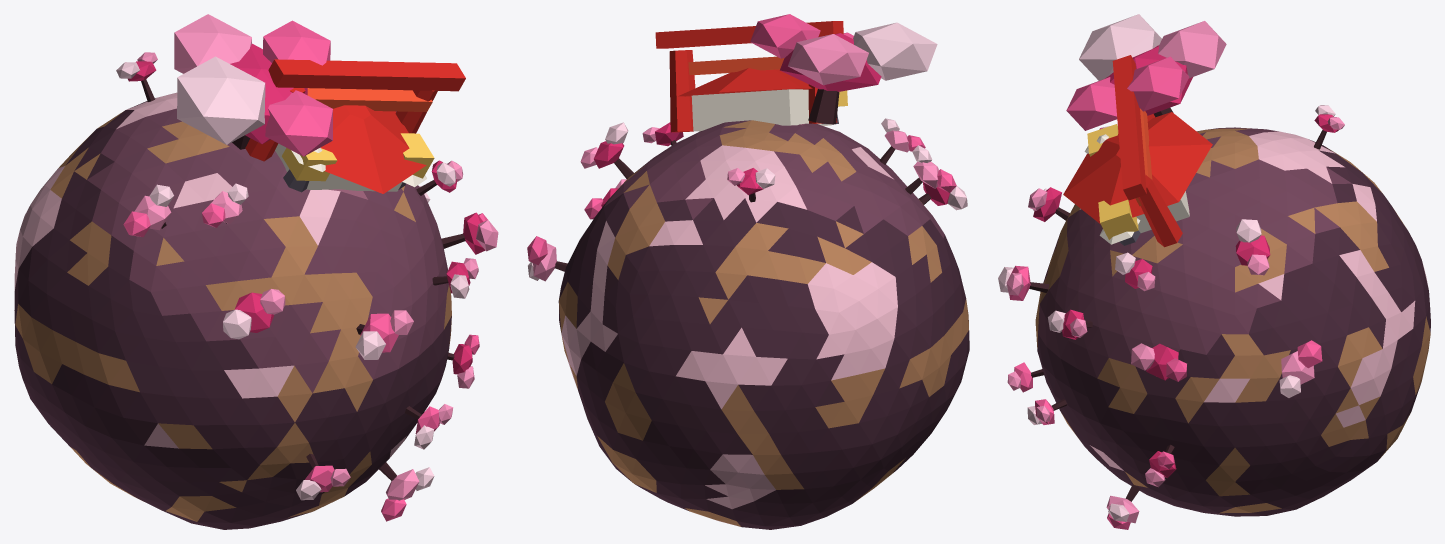
The model's file is Sakura_10.fbx.
3 views of the same model, side by side, from view 1: azimuth 30°, elevation 25°; view 2: azimuth 150°, elevation 25°; view 3: azimuth 270°, elevation 25° (orthographic). The views are drawn at different scales.
Parts seen in each view (by area): view 1: Sakura_10; view 2: Sakura_10; view 3: Sakura_10.
Boxes of the visible parts, x1,y1,x2,y2 form: Sakura_10: (14,14,498,529); Sakura_10: (527,14,969,529); Sakura_10: (998,14,1430,529).
Bounding box in the file's own units: 6.54 × 7.57 × 6.65.
1 material, 1 textured.
